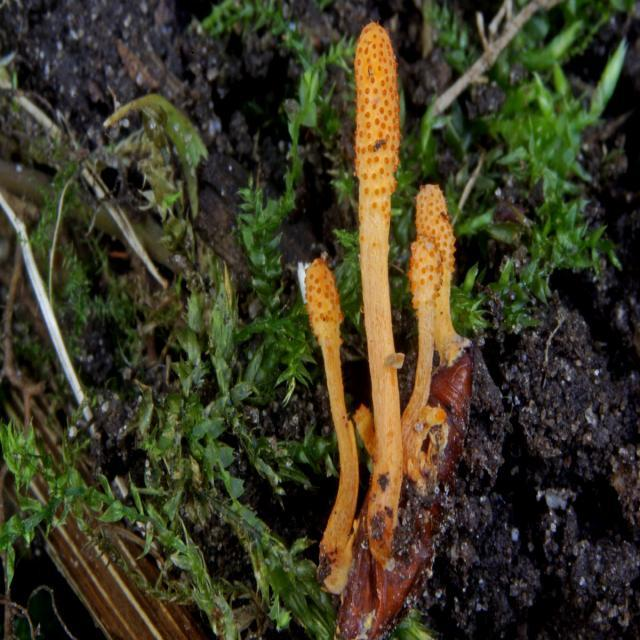Cordyceps militaris: (303, 24, 474, 638)
